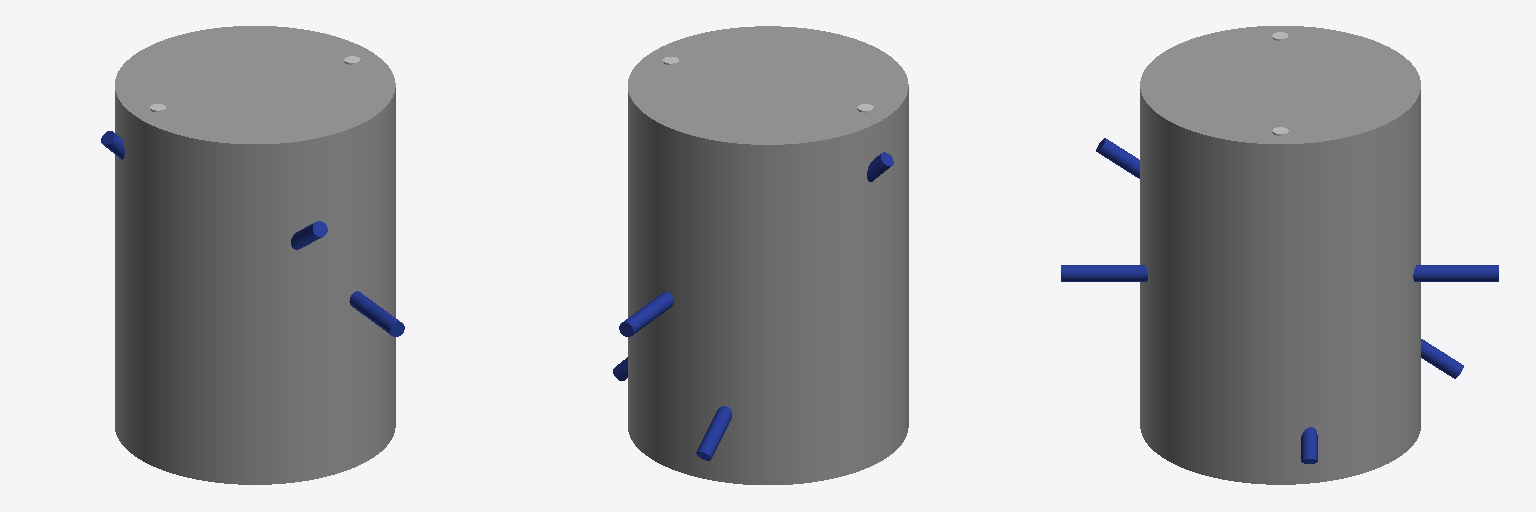
Rendered from phantom_rods.obj.
The picture shows the model from 3 angles: view 1: azimuth 30°, elevation 25°; view 2: azimuth 150°, elevation 25°; view 3: azimuth 270°, elevation 25°; orthographic projection.
Visible parts, largest first — view 1: Circle, Cylinder.002_Cylinder.009, Cylinder.000_Cylinder.011; view 2: Circle, Cylinder.002_Cylinder.009, Cylinder.000_Cylinder.011, Cylinder.001_Cylinder.003; view 3: Circle, Cylinder.002_Cylinder.009, Cylinder.000_Cylinder.011, Cylinder.001_Cylinder.003.
Boxes of the visible parts, x1=… form: Circle: x1=115, y1=26, x2=395, y2=484; Cylinder.002_Cylinder.009: x1=349, y1=291, x2=404, y2=336; Cylinder.000_Cylinder.011: x1=291, y1=221, x2=327, y2=249; Circle: x1=628, y1=26, x2=908, y2=484; Cylinder.002_Cylinder.009: x1=619, y1=292, x2=673, y2=336; Cylinder.000_Cylinder.011: x1=696, y1=406, x2=731, y2=460; Cylinder.001_Cylinder.003: x1=613, y1=152, x2=893, y2=380; Circle: x1=1140, y1=26, x2=1420, y2=484; Cylinder.002_Cylinder.009: x1=1061, y1=265, x2=1498, y2=281; Cylinder.000_Cylinder.011: x1=1096, y1=138, x2=1463, y2=378; Cylinder.001_Cylinder.003: x1=1301, y1=427, x2=1317, y2=463.
Size of the model in its own units: 2.28 by 2.71 by 3.11.